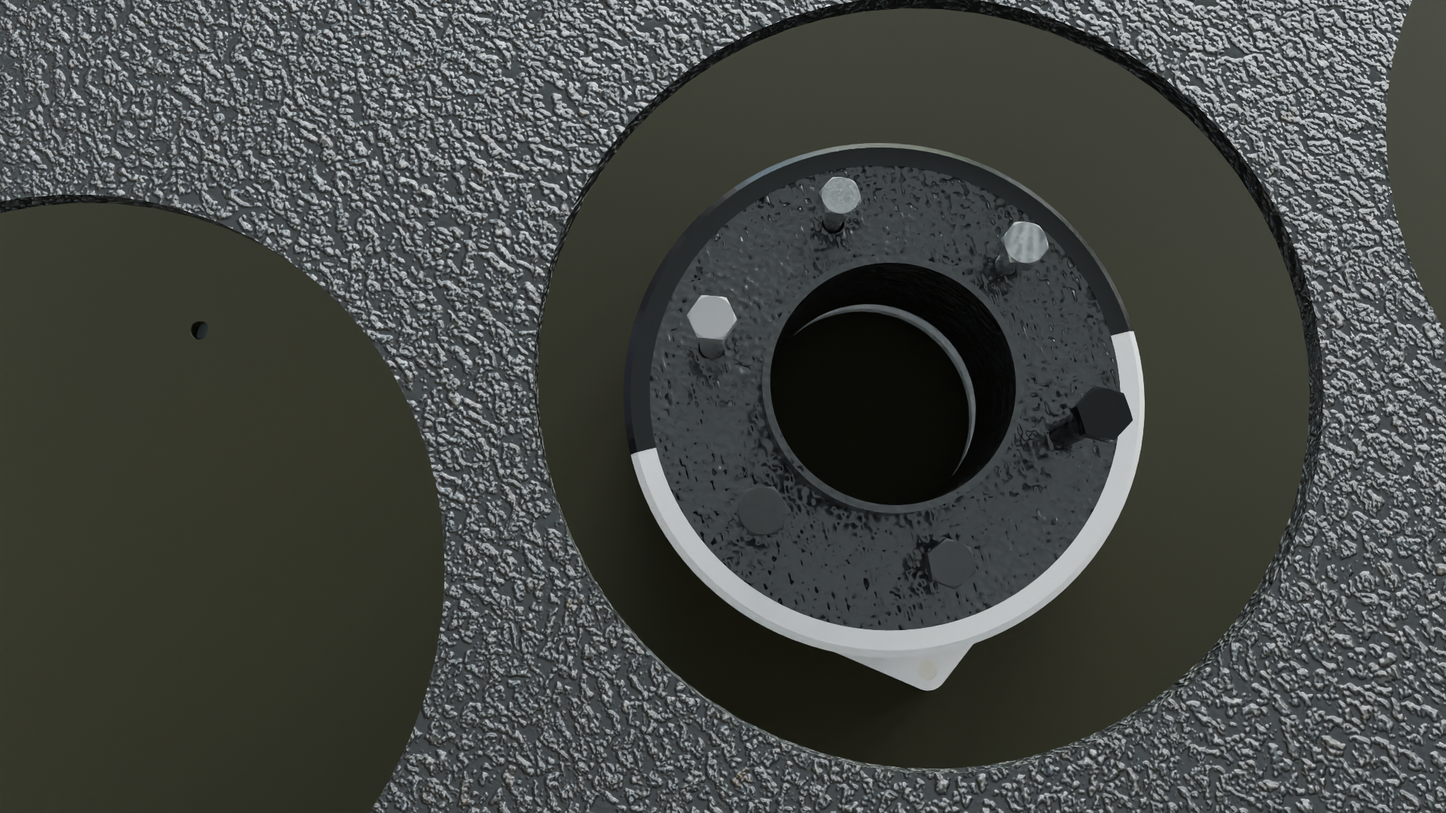bolt: (1077, 386, 1133, 440), (736, 486, 789, 535), (928, 538, 976, 589), (687, 295, 737, 340), (1000, 222, 1049, 266), (819, 177, 862, 217)
